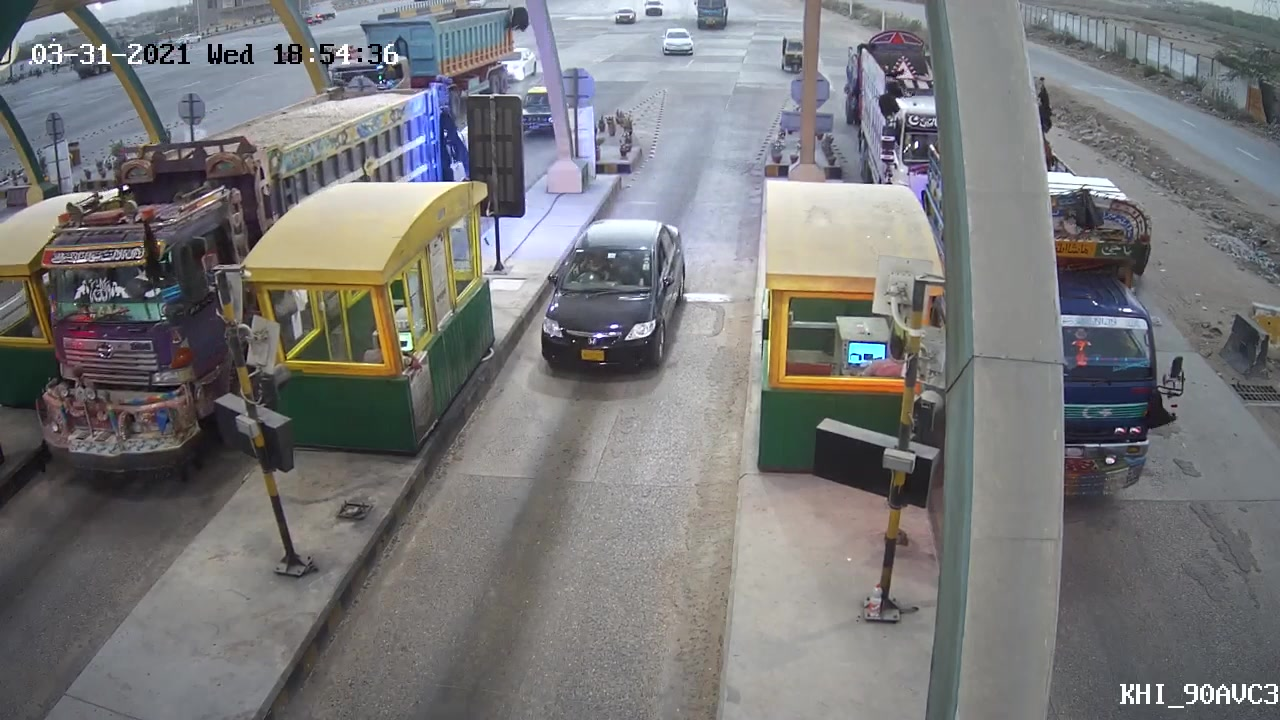F1: (530, 211, 692, 384)
